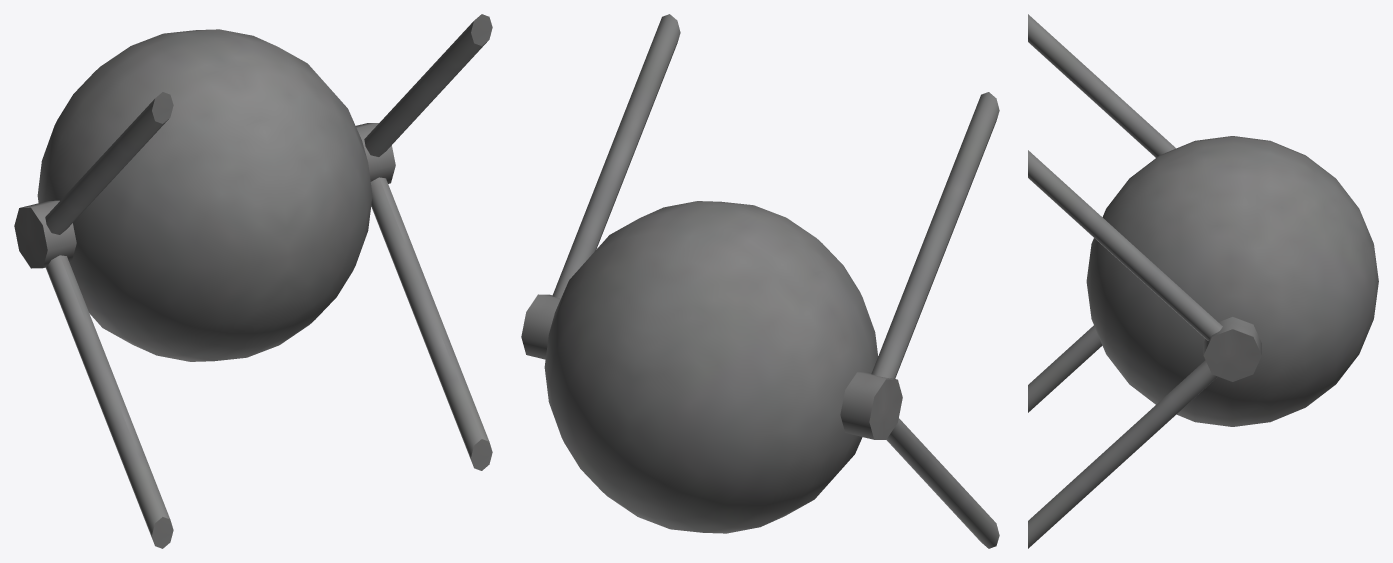
The model's file is sphere tanks.obj.
3 views of the same model, side by side, from view 1: azimuth 30°, elevation 25°; view 2: azimuth 150°, elevation 25°; view 3: azimuth 270°, elevation 25° (orthographic). The views are drawn at different scales.
Visible parts, largest first — view 1: 1; view 2: 1; view 3: 1.
Boxes of the visible parts, box(x1,y1,x2,y2) form: 1: box(14, 14, 492, 548); 1: box(521, 14, 999, 548); 1: box(1028, 14, 1378, 548).
Bounding box in the file's own units: 0.3 × 0.3765 × 0.3.
